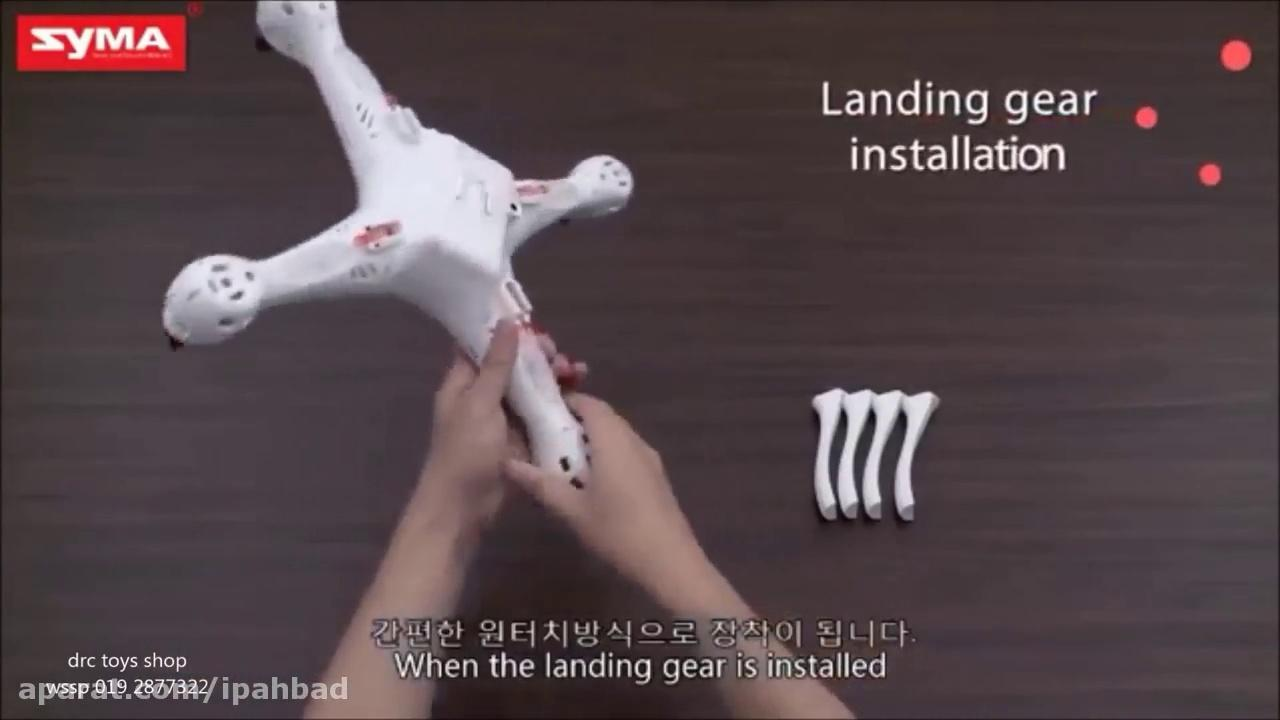drone: (157, 1, 636, 491)
